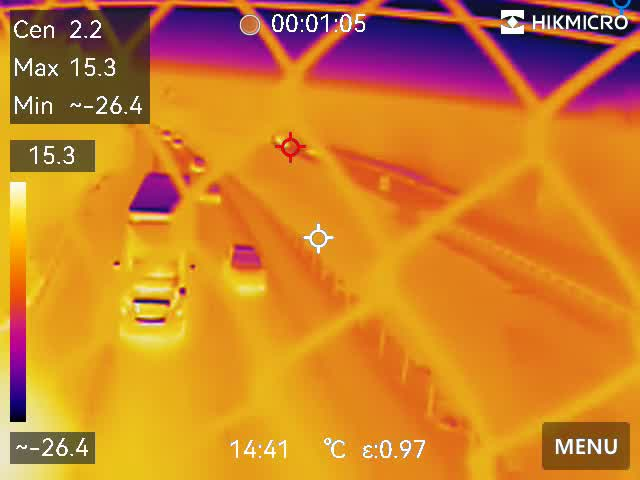heavyTruck: (111, 172, 198, 347)
vehicle: (223, 241, 272, 306), (204, 177, 221, 206), (190, 156, 205, 171), (157, 125, 171, 140), (172, 134, 185, 150)
